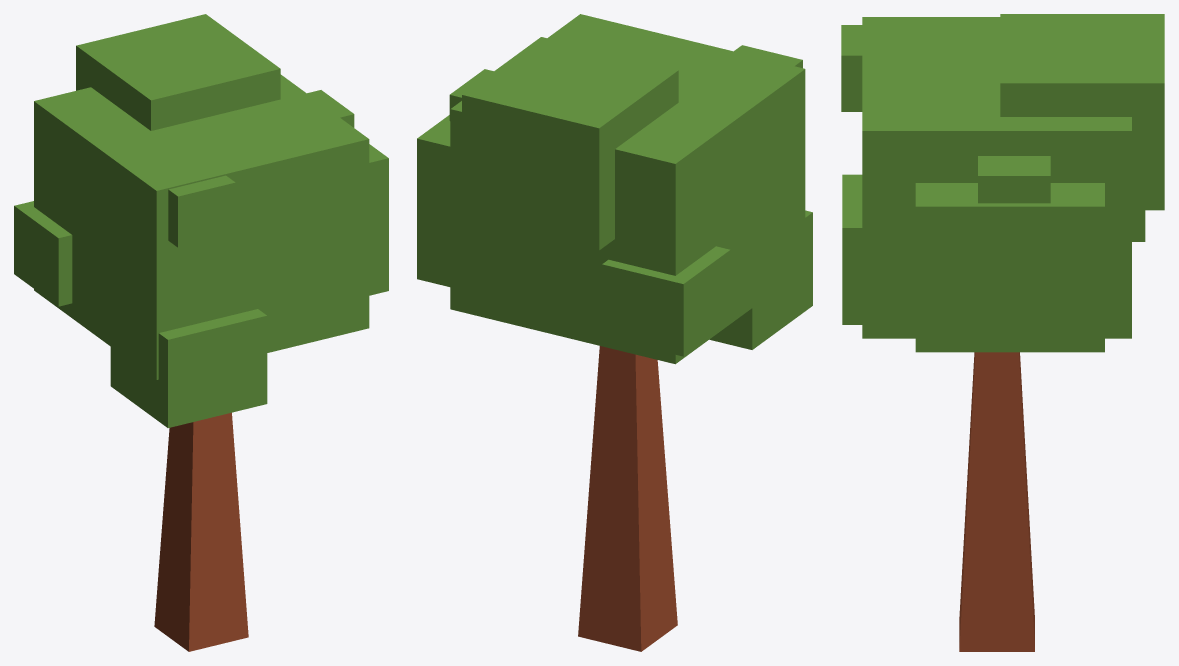
Rendered from Three1.fbx.
3 views of the same model, side by side, from view 1: azimuth 30°, elevation 25°; view 2: azimuth 150°, elevation 25°; view 3: azimuth 270°, elevation 25° (orthographic). The views are drawn at different scales.
Visible parts, largest first — view 1: Cube.008; view 2: Cube.008; view 3: Cube.008.
Boxes of the visible parts, bbox=[...] form: Cube.008: bbox=[14, 14, 388, 651]; Cube.008: bbox=[417, 14, 812, 651]; Cube.008: bbox=[841, 14, 1164, 651].
Size of the model in its own units: 5.93 by 11.38 by 5.6.
